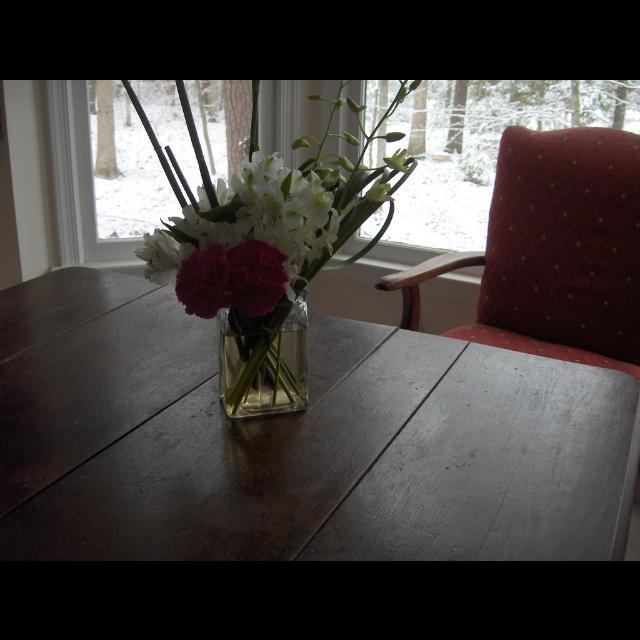Flower: (134, 145, 340, 307), (216, 239, 288, 321), (174, 237, 226, 311)
